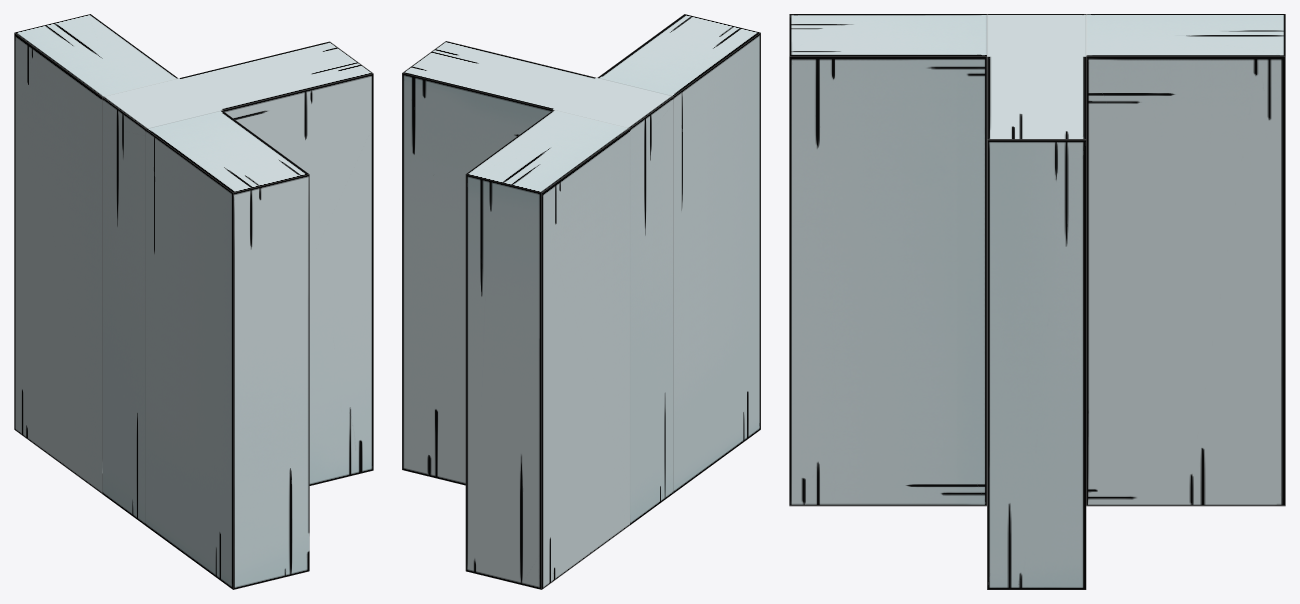
The model's file is wonderwallpoint2.fbx.
3 renders of one model, left to right at view 1: azimuth 30°, elevation 25°; view 2: azimuth 150°, elevation 25°; view 3: azimuth 270°, elevation 25°, orthographic. The views are drawn at different scales.
Parts seen in each view (by area): view 1: wonderwallpoint2; view 2: wonderwallpoint2; view 3: wonderwallpoint2.
Boxes of the visible parts, <box> form: wonderwallpoint2: <box>14,14,373,589</box>; wonderwallpoint2: <box>402,14,760,589</box>; wonderwallpoint2: <box>789,14,1285,589</box>.
Size of the model in its own units: 1.2 by 2 by 2.
1 material, 1 textured.
